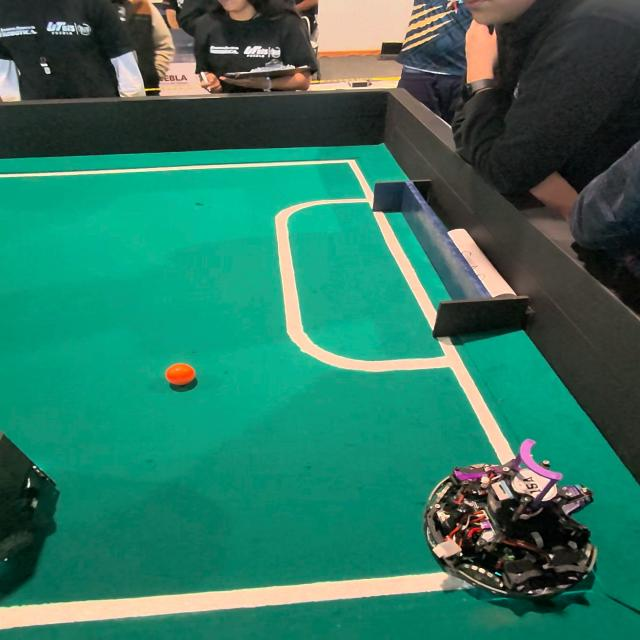Robot: (418, 448, 607, 619), (0, 397, 61, 600)
pelota: (164, 365, 196, 391)
